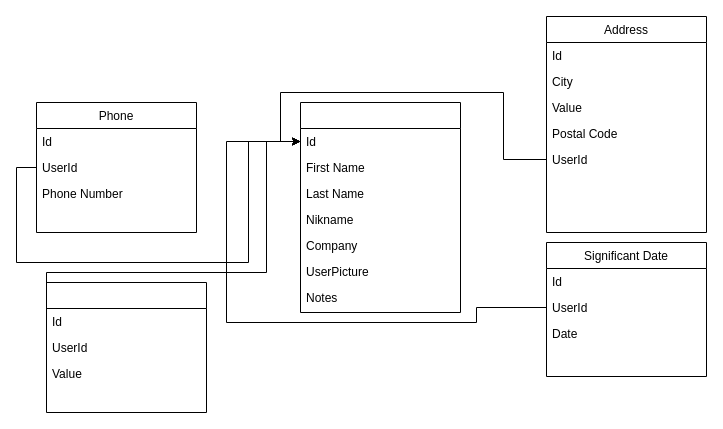
The diagram is 723 pixels wide and 429 high, and some of its shapes have lost their labels. The shapes that lost their labels are listed below. From the top down, each one's box as (x1, y1, x2, y2) in pixels, then its label:
(300, 102, 460, 312): Person
(46, 282, 206, 412): Email Address
